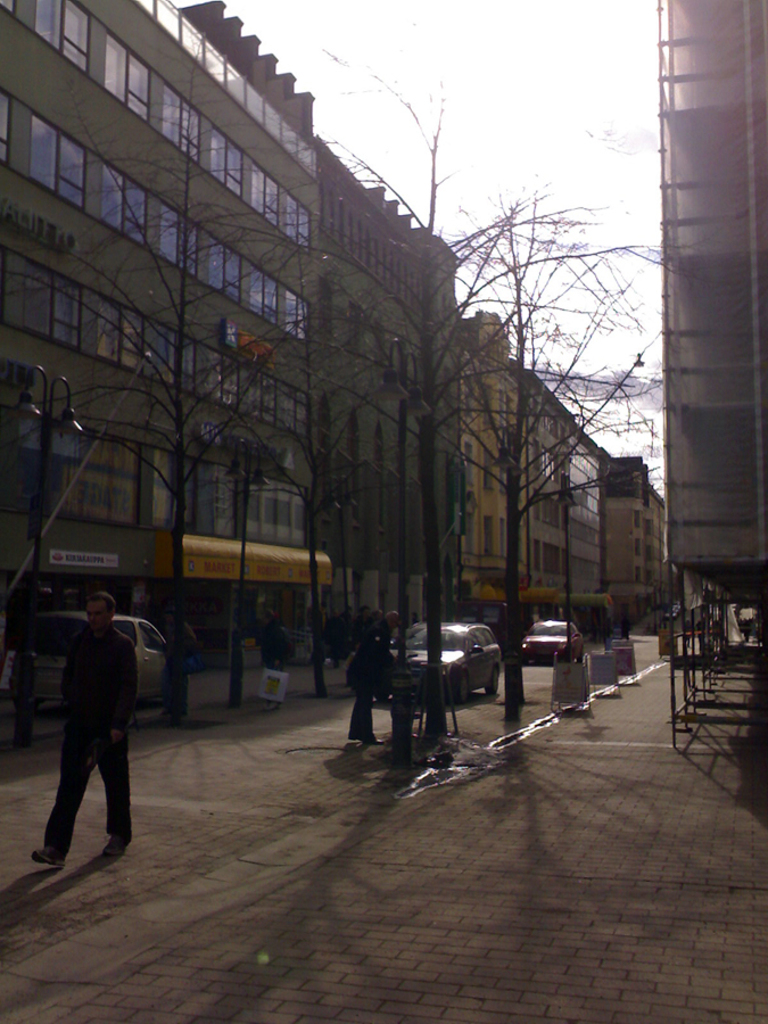cars: (22, 605, 180, 707), (377, 620, 500, 711), (515, 622, 582, 667)
